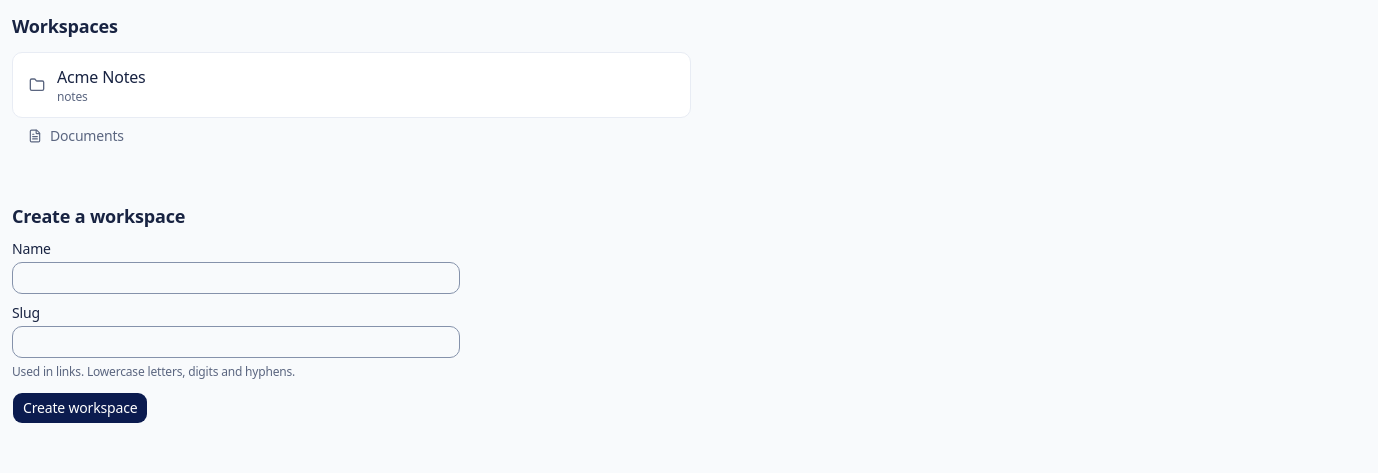
Test: org page: create workspace › owner/admin can create; 409 inline; 403 from the API is handled; success updates the shared list
Type "Papers" into the field labelled "Name" at (236, 278), box [12,262,460,294]
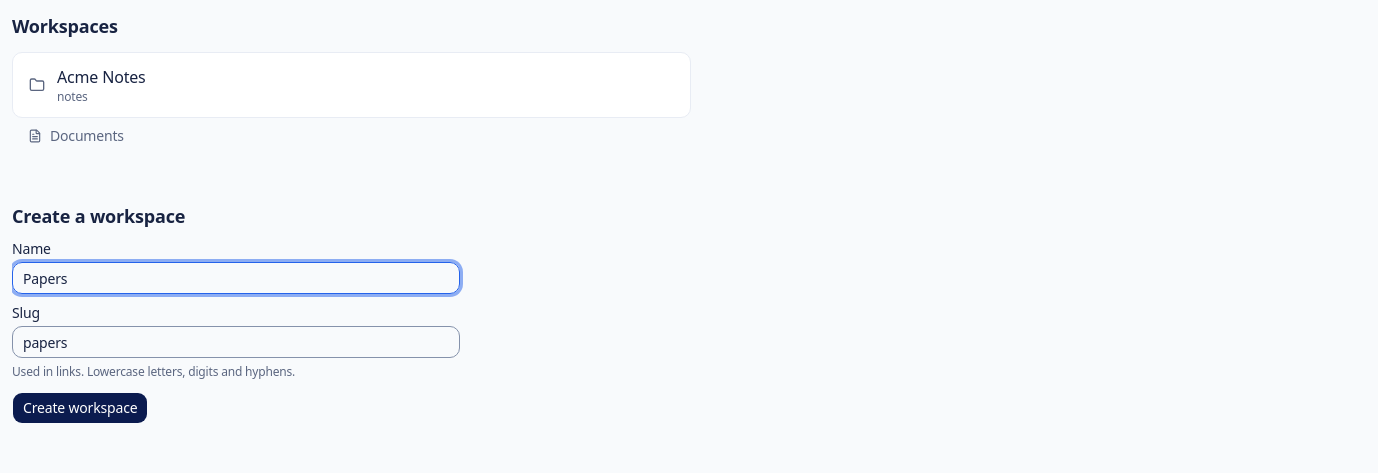
Click the button "Create workspace" at (80, 408), box [12,392,148,424]
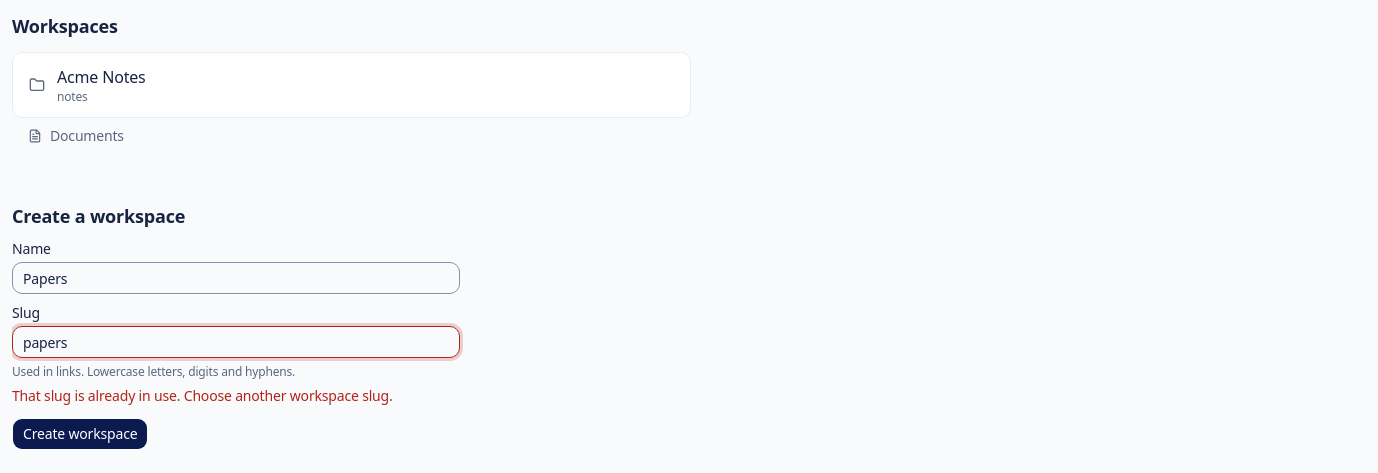
expect the message shows "slug is already in use": met, box [12,386,393,405]
Click the button "Create workspace" at (80, 434), box [12,418,148,450]
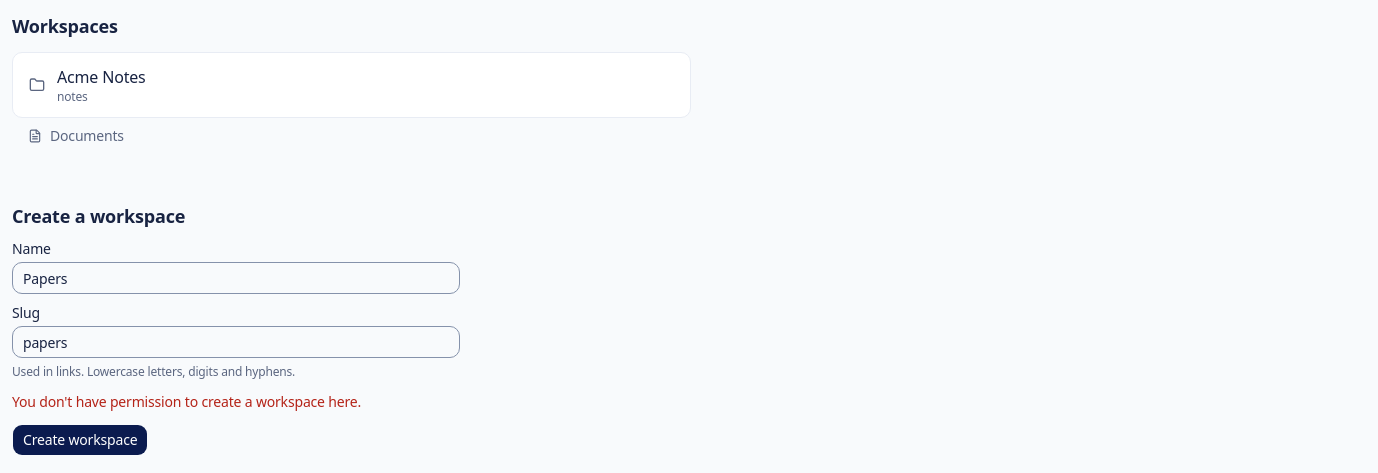
expect the message shows "don't have permission": met, box [12,392,361,411]
Click the button "Create workspace" at (80, 440), box [12,424,148,456]
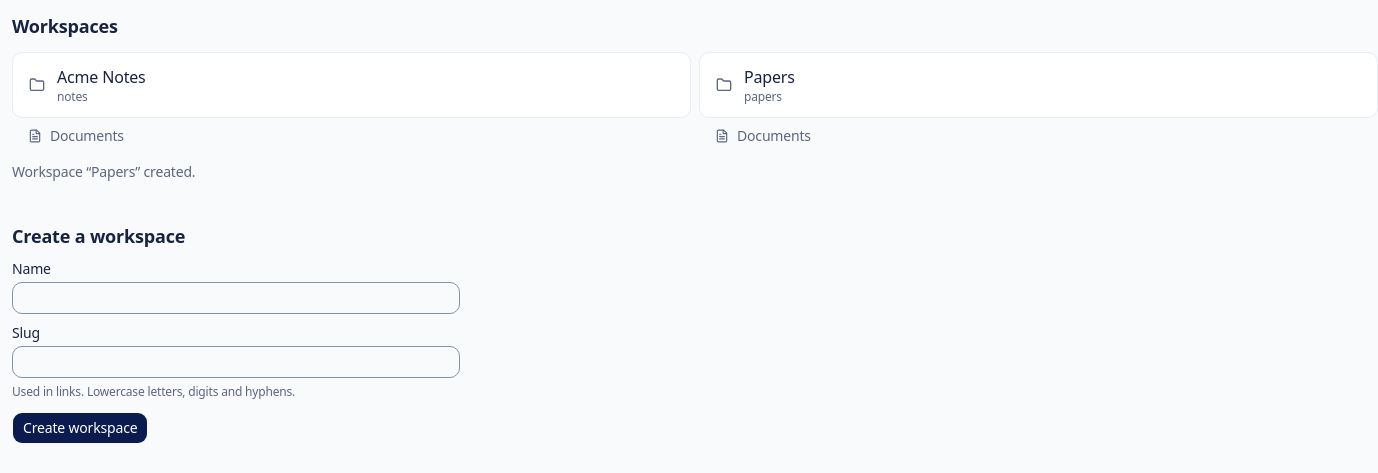
expect the text "Workspace “Papers” created." is shown: met, box [12,162,195,181]
